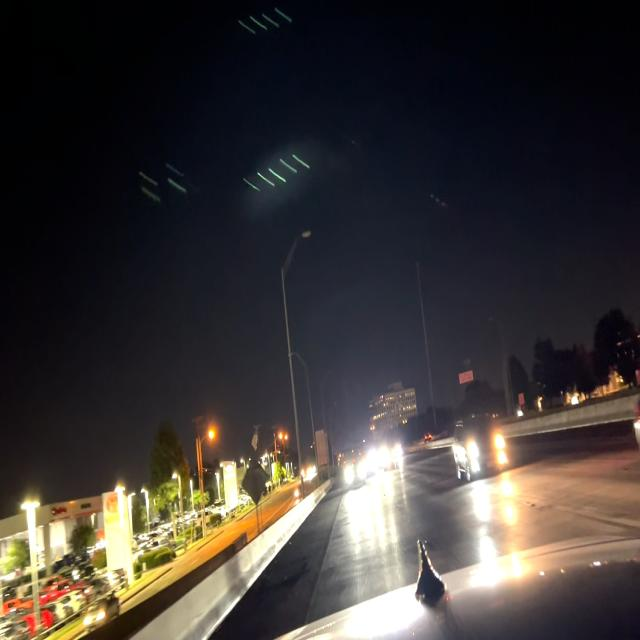back-of-sign: (239, 461, 271, 506)
